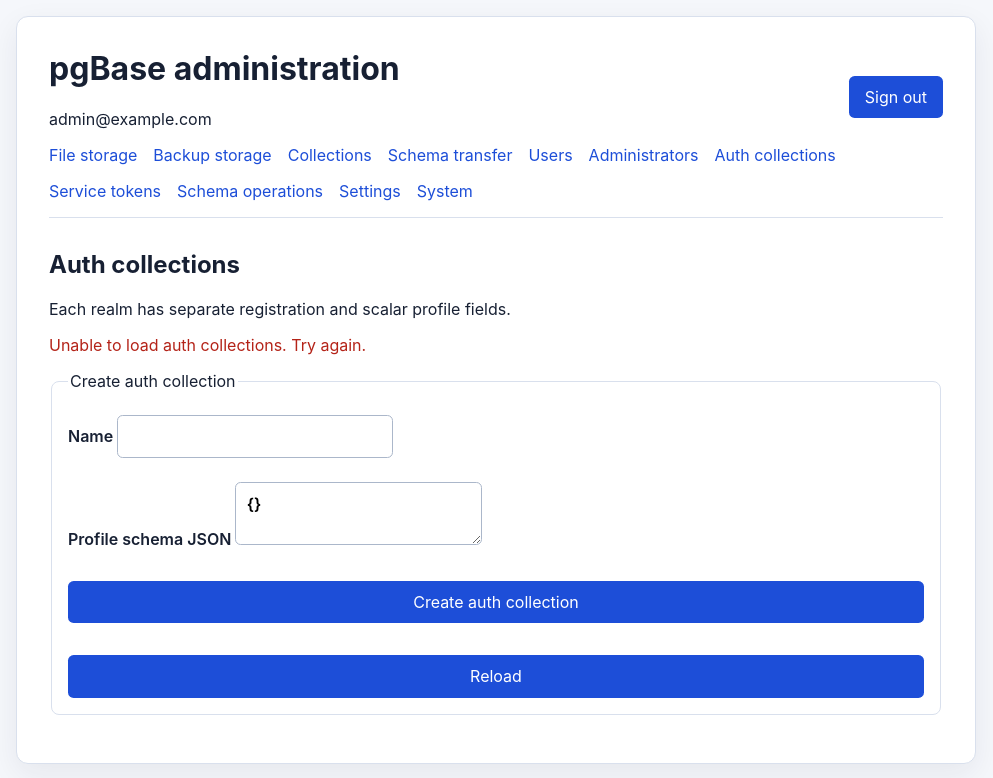
Test: auth collections page › retries a failed initial load and rejects an invalid profile schema before a request
The image size is (993, 778).
Expected: the message "Unable to load auth collections. Try again." is shown, top-left (49, 335), bottom-right (366, 355)
Click the button "Reload": coordinates (496, 676) top-left (68, 655), bottom-right (924, 698)
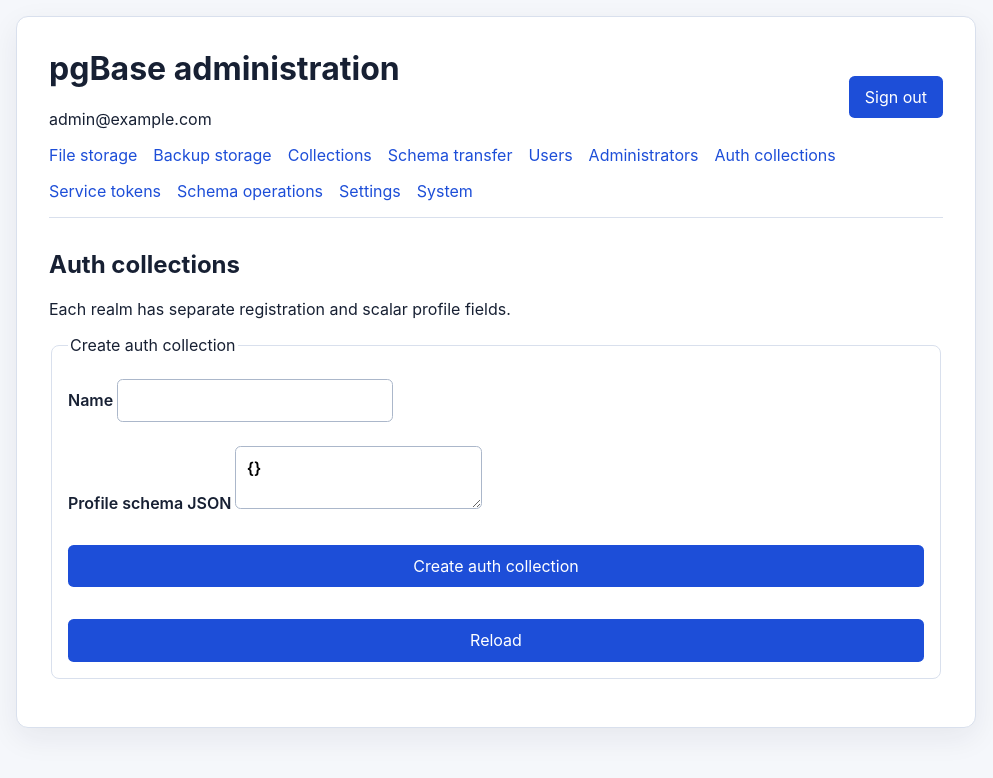
In the field named "Auth collection name": coordinates (255, 401) top-left (117, 379), bottom-right (393, 422), type "writers"
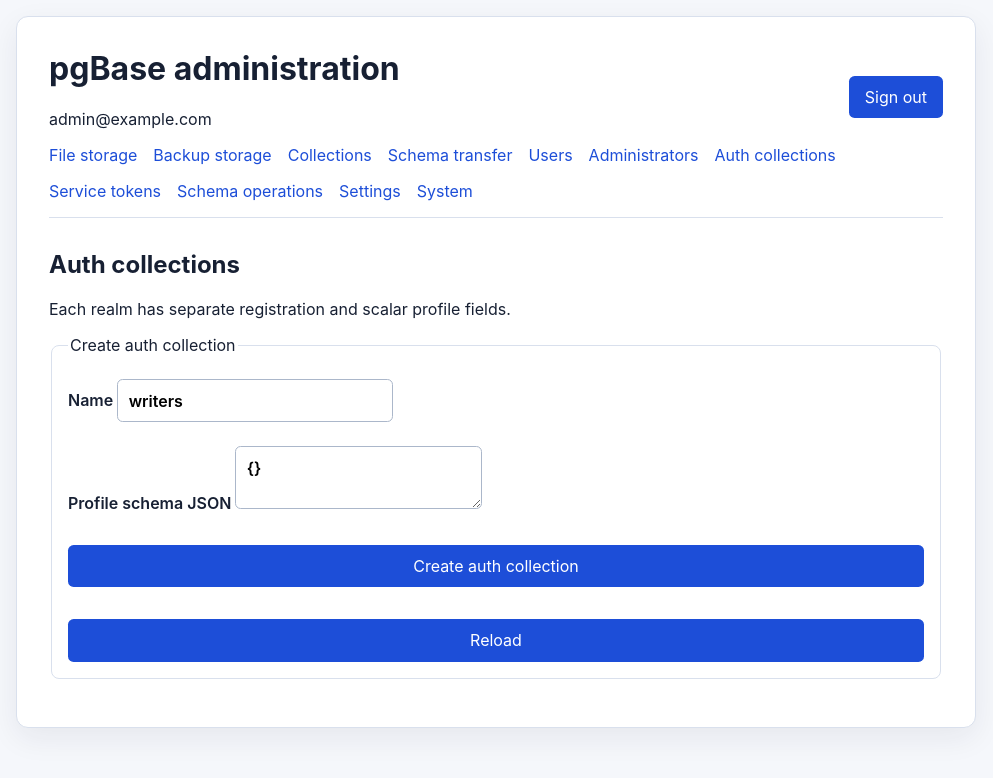
Replace the text in the text box named "New profile schema" with "[]": coordinates (359, 478) top-left (235, 446), bottom-right (482, 509)
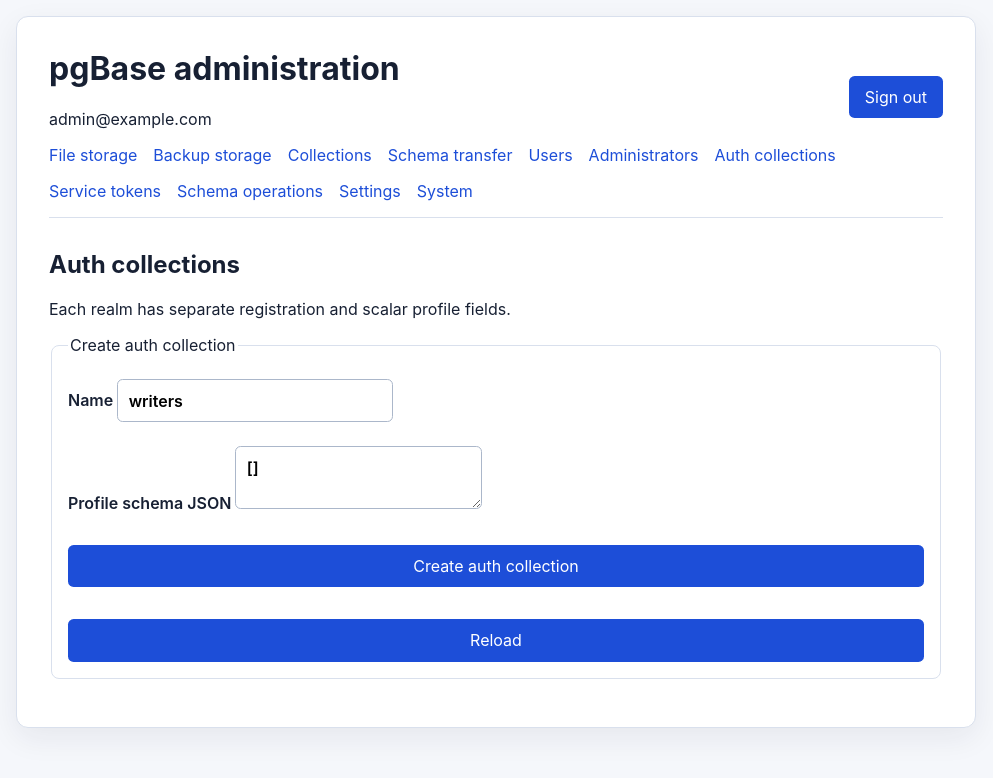
Click the button "Create auth collection": coordinates (496, 566) top-left (68, 545), bottom-right (924, 587)
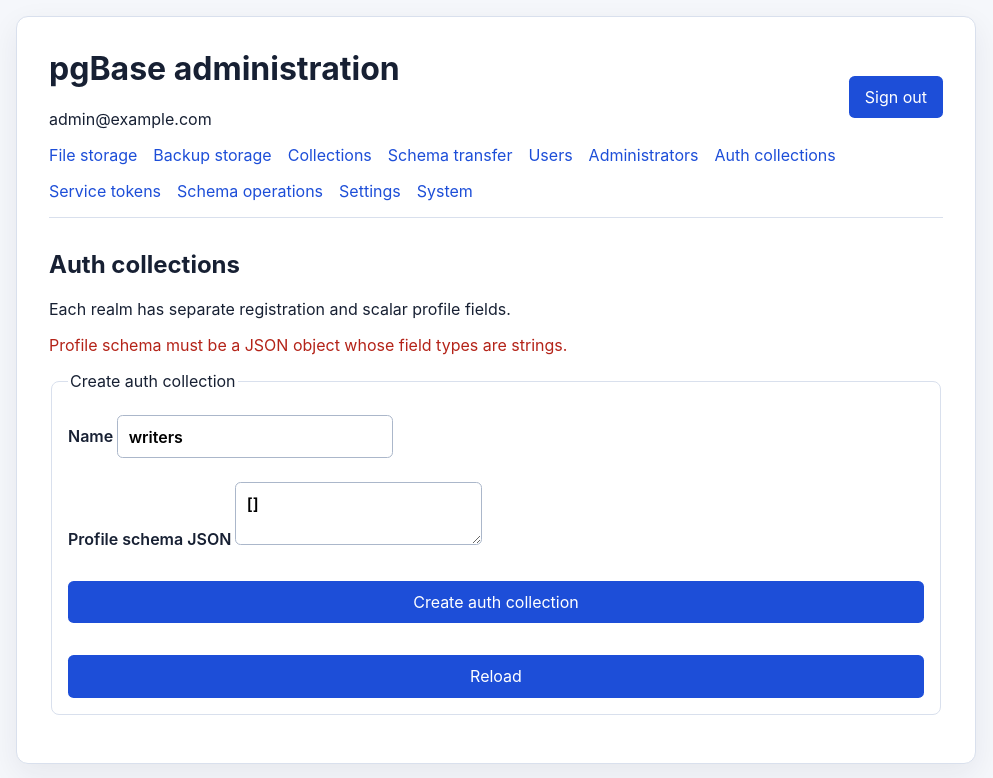
Expected: the message shows "Profile schema must be a JSON object", top-left (49, 335), bottom-right (567, 355)
